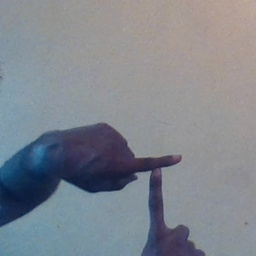T: (110, 131, 194, 243)
